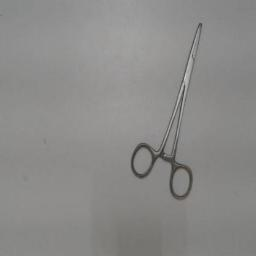Mayo Needle Holder: (124, 16, 206, 206)
